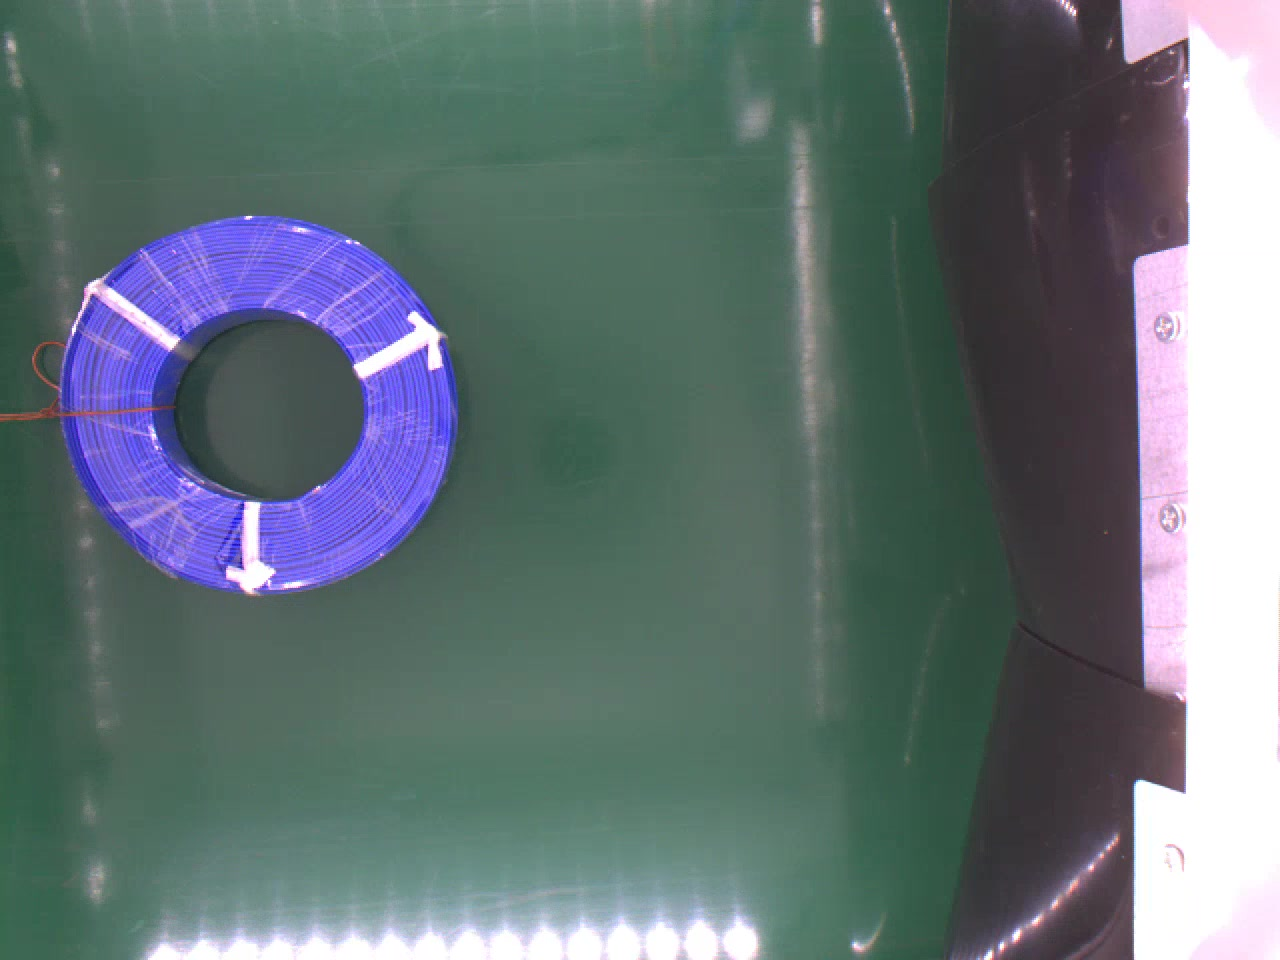blue: (67, 215, 459, 588)
